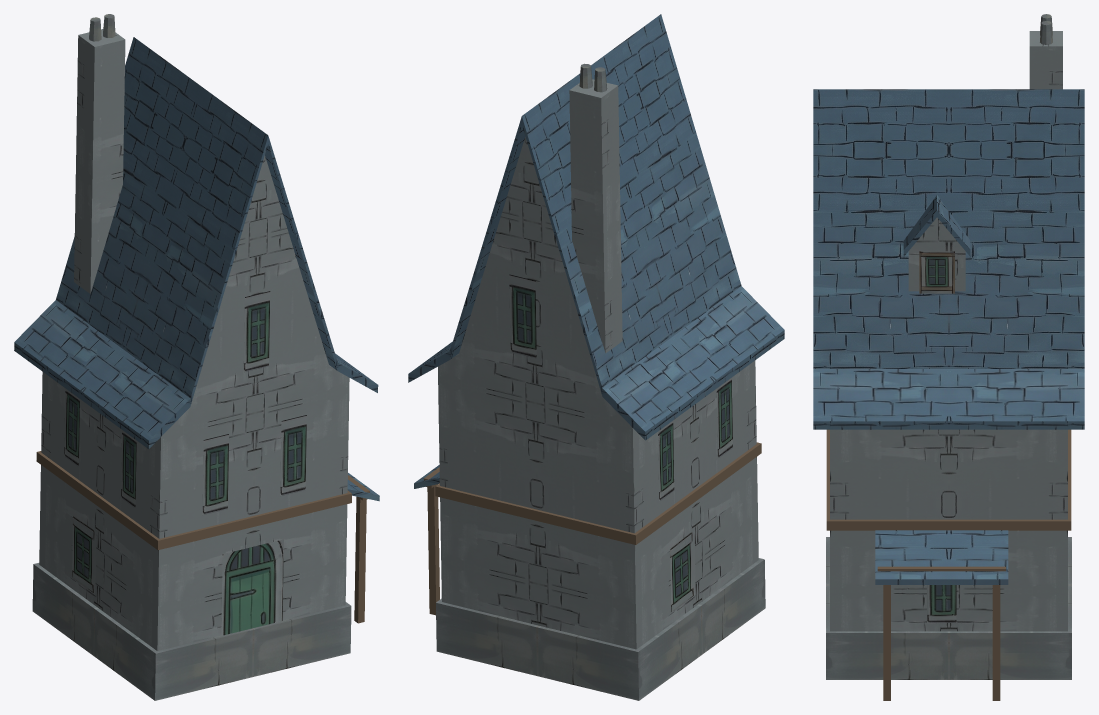
The model's file is library.glb.
The picture shows the model from 3 angles, left to right: view 1: azimuth 30°, elevation 25°; view 2: azimuth 150°, elevation 25°; view 3: azimuth 270°, elevation 25°; orthographic projection. The views are drawn at different scales.
Parts seen in each view (by area): view 1: body, roof, glass, door; view 2: body, roof, glass; view 3: roof, body, glass.
Part boxes in pixels (box(x1,y1,x2,y2)): body: box(32, 14, 369, 700); roof: box(14, 37, 379, 501); glass: box(64, 291, 306, 594); door: box(221, 539, 283, 635); body: box(424, 63, 765, 700); roof: box(408, 14, 784, 488); glass: box(509, 274, 732, 611); roof: box(813, 89, 1084, 584); body: box(826, 14, 1071, 700); glass: box(919, 251, 956, 622).
Bounding box in the file's own units: 6.39 × 13.75 × 5.7.
Materials: 8 (7 with a texture image).
